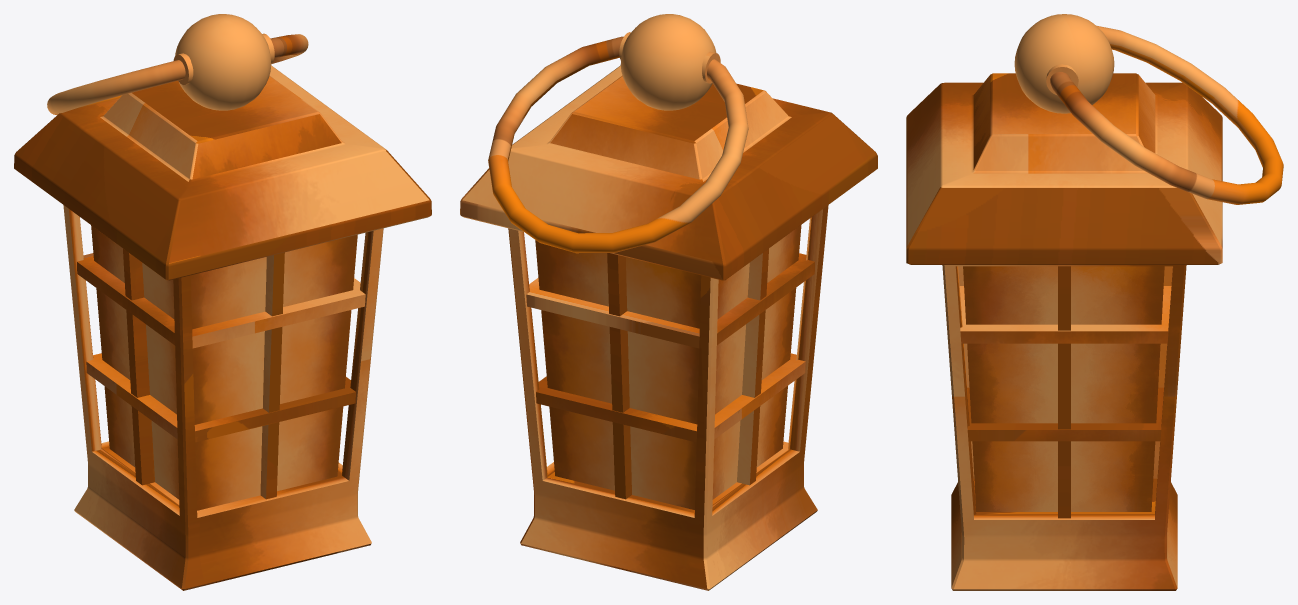
The model's file is Lantern Sketchfab.fbx.
3 views of the same model, side by side, from view 1: azimuth 30°, elevation 25°; view 2: azimuth 150°, elevation 25°; view 3: azimuth 270°, elevation 25° (orthographic). The views are drawn at different scales.
Parts seen in each view (by area): view 1: Metal, Light; view 2: Metal, Light; view 3: Metal, Light.
Part boxes in pixels (x1=…): Metal: x1=14, y1=14, x2=431, y2=590; Light: x1=91, y1=225, x2=357, y2=510; Metal: x1=460, y1=14, x2=877, y2=590; Light: x1=535, y1=225, x2=801, y2=509; Metal: x1=906, y1=14, x2=1283, y2=590; Light: x1=963, y1=266, x2=1164, y2=511.
Size of the model in its own units: 30.67 by 56.18 by 36.59.
